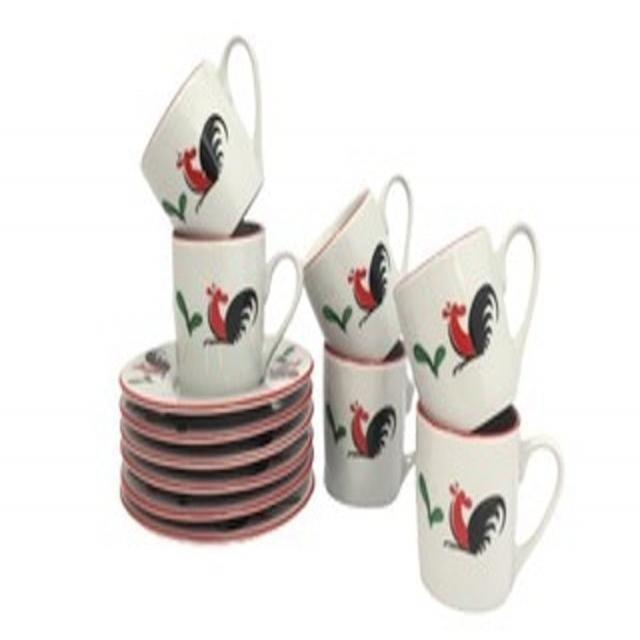cup: (135, 27, 280, 243)
